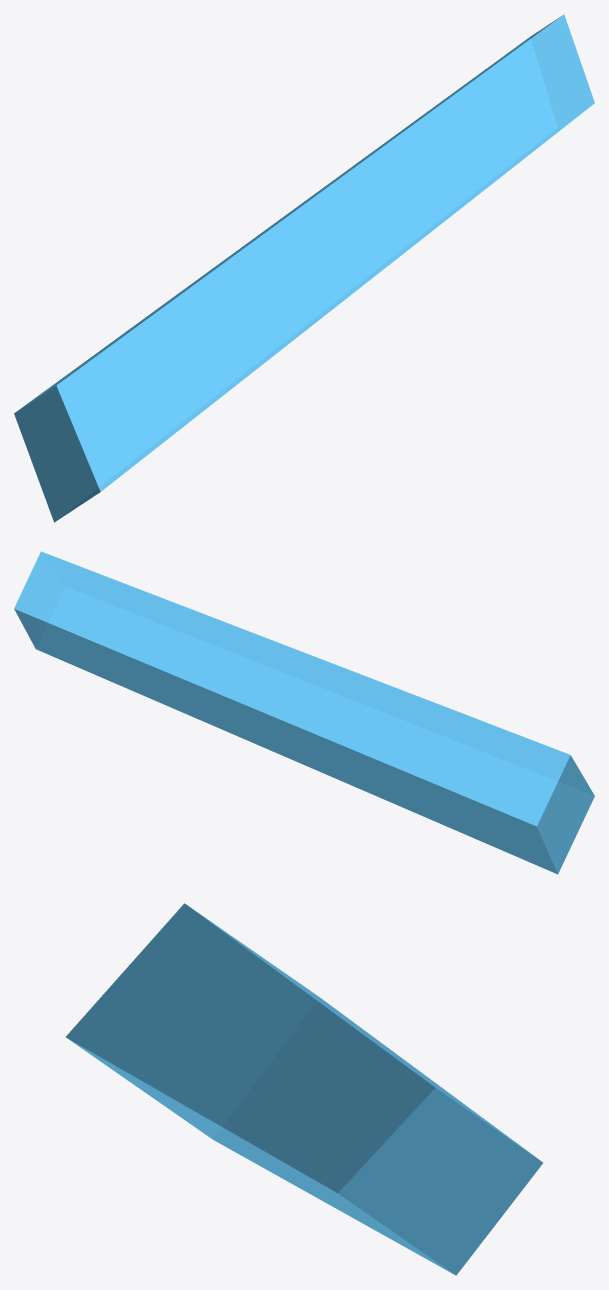
The model's file is Event_421127236_HErechit_26.fbx.
3 renders of one model, top to bottom at view 1: azimuth 30°, elevation 25°; view 2: azimuth 150°, elevation 25°; view 3: azimuth 270°, elevation 25°, orthographic. The views are drawn at different scales.
Visible parts, largest first — view 1: Model; view 2: Model; view 3: Model.
Part boxes in pixels (x1,y1,x2,y2): Model: [14, 14, 594, 522]; Model: [14, 551, 594, 874]; Model: [66, 903, 543, 1275].
Size of the model in its own units: 2.77 by 1.43 by 1.23.
